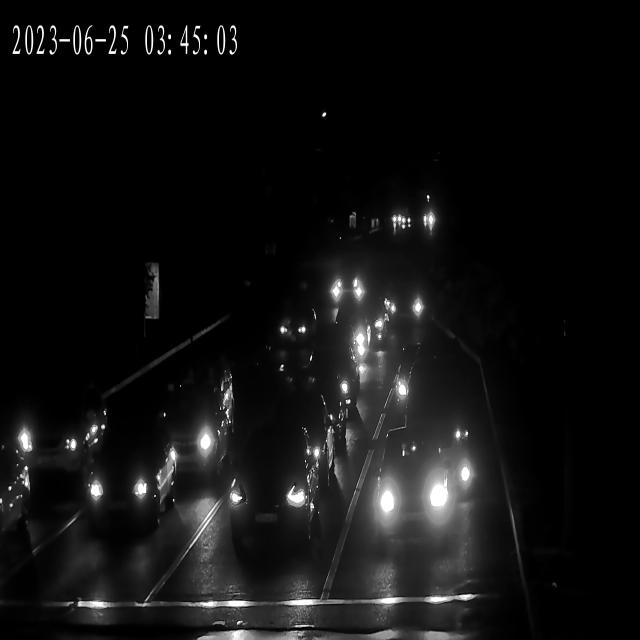Car: (2, 381, 111, 492), (218, 441, 318, 555), (78, 431, 179, 539), (138, 391, 230, 490), (369, 453, 457, 546), (267, 385, 336, 500), (407, 388, 478, 495), (0, 449, 39, 568), (308, 350, 362, 424), (387, 352, 436, 406), (376, 281, 426, 329), (326, 264, 372, 306), (344, 320, 384, 366), (275, 314, 311, 351)
